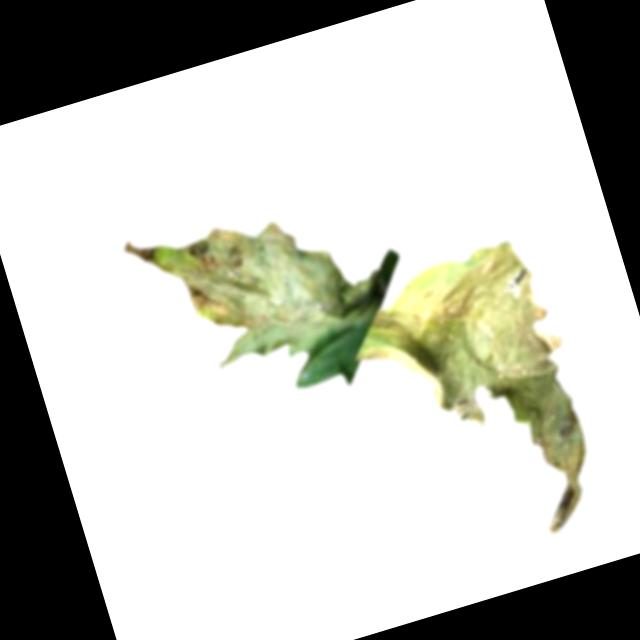Late_blight: (341, 230, 615, 572), (122, 171, 399, 400)
